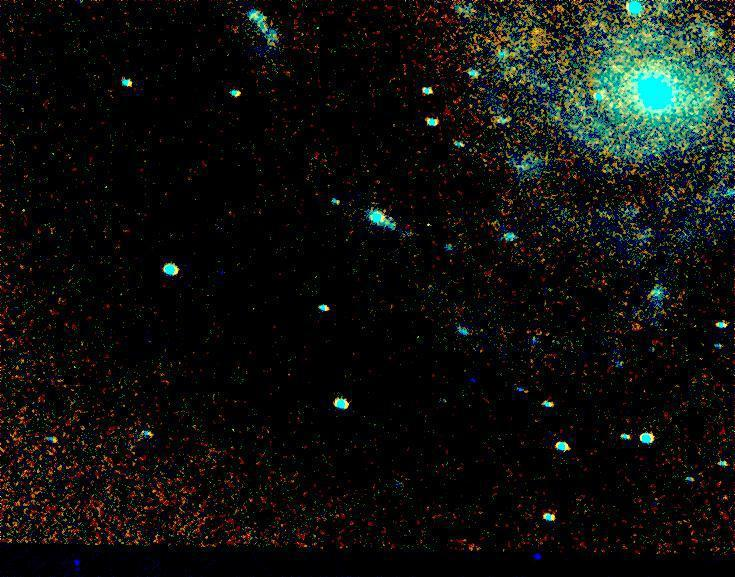star: (416, 209, 446, 239)
